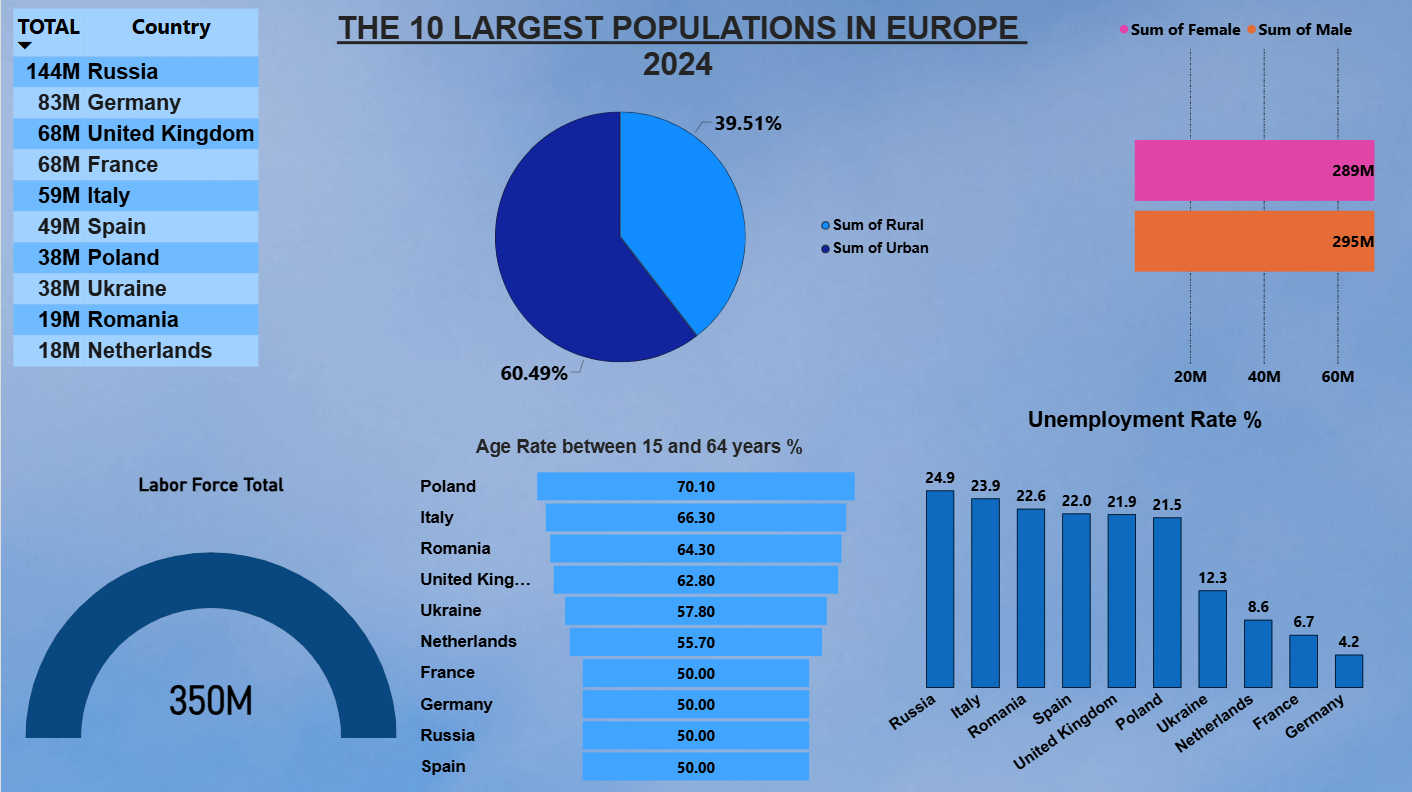

This screenshot's page, from the dashboard's own definition file:
{"tool":"powerbi","page":{"name":"Page 1","canvas":[1920,1080],"ordinal":0},"visuals":[{"type":"textbox","box":[420.2,17.3,994,97.9],"z":0},{"type":"clusteredBarChart","fields":{"Y":["Sum(1world_population_dataset_comprehensive.Female)","Sum(1world_population_dataset_comprehensive.Male)"]},"box":[1496.7,7.7,402.7,540.2],"z":1000},{"type":"pieChart","fields":{"Y":["Sum(1world_population_dataset_comprehensive.Rural %)","Sum(1world_population_dataset_comprehensive.Urban %)"]},"box":[552.6,49.9,730,550.5],"z":2000},{"type":"tableEx","fields":{"Values":["1world_population_dataset_comprehensive.2024","1world_population_dataset_comprehensive.Country"]},"box":[0,0,396.3,555.5],"z":3000},{"type":"gauge","title":"Labor Force Total","fields":{"Y":["Sum(1world_population_dataset_comprehensive.Labor_Force_Total)"]},"box":[17.3,629.4,535.4,450.9],"z":4000},{"type":"columnChart","title":"Unemployment Rate %","fields":{"Category":["1world_population_dataset_comprehensive.Country"],"Y":["Sum(1world_population_dataset_comprehensive.Unemployment_Rate_%)"]},"box":[1178.2,541.1,742.6,539.2],"z":5000},{"type":"funnel","title":"Age Rate between 15 and 64 years %","fields":{"Category":["1world_population_dataset_comprehensive.Country"],"Y":["Sum(1world_population_dataset_comprehensive.Age_15_64_%)"]},"box":[552.6,579.5,625.5,500.8],"z":6000}]}

Visuals, with their boxes in screenshot pixels (x1, y1, x2, y2), scaled from the page's 1920x1080 canvas onto the 1412x792 screenshot:
textbox: detection(309, 13, 1040, 84)
clusteredBarChart - Sum(1world_population_dataset_comprehensive.Female) x Sum(1world_population_dataset_comprehensive.Male): detection(1101, 6, 1397, 402)
pieChart - Sum(1world_population_dataset_comprehensive.Rural %) x Sum(1world_population_dataset_comprehensive.Urban %): detection(406, 37, 943, 440)
tableEx - 1world_population_dataset_comprehensive.2024 x 1world_population_dataset_comprehensive.Country: detection(0, 0, 291, 407)
"Labor Force Total" gauge: detection(13, 462, 406, 791)
"Unemployment Rate %" columnChart: detection(866, 397, 1411, 791)
"Age Rate between 15 and 64 years %" funnel: detection(406, 425, 866, 791)
